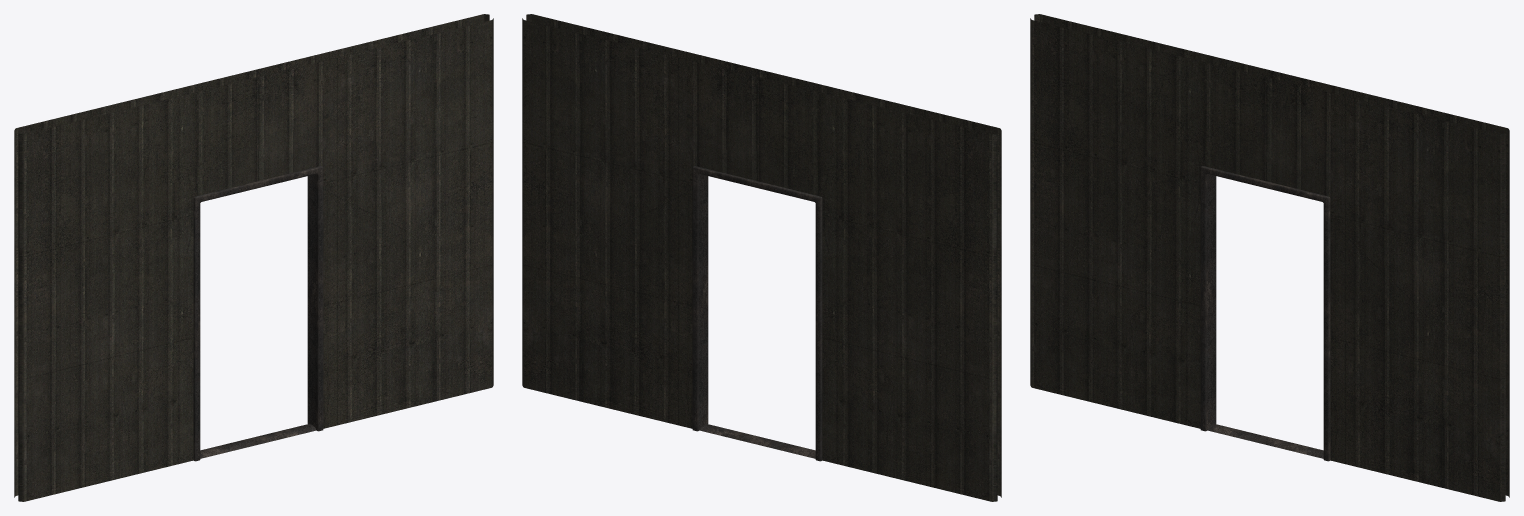
Rendered from doorway_1_plain.glb.
3 views of the same model, side by side, from view 1: azimuth 30°, elevation 25°; view 2: azimuth 150°, elevation 25°; view 3: azimuth 330°, elevation 25° (orthographic).
Parts seen in each view (by area): view 1: doorway_1_plain; view 2: doorway_1_plain; view 3: doorway_1_plain.
Boxes of the visible parts, x1,y1,x2,y2 form: doorway_1_plain: [14, 14, 493, 501]; doorway_1_plain: [522, 14, 1001, 501]; doorway_1_plain: [1030, 14, 1509, 501].
Bounding box in the file's own units: 4.06 × 3 × 0.16.
Materials: 2 (2 with a texture image).
